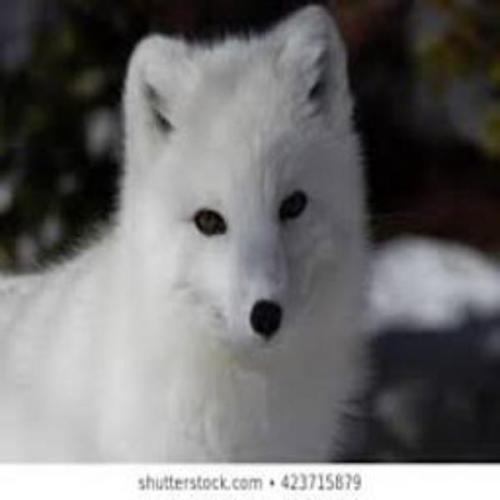arctic_fox-endangered: (0, 11, 366, 459)
